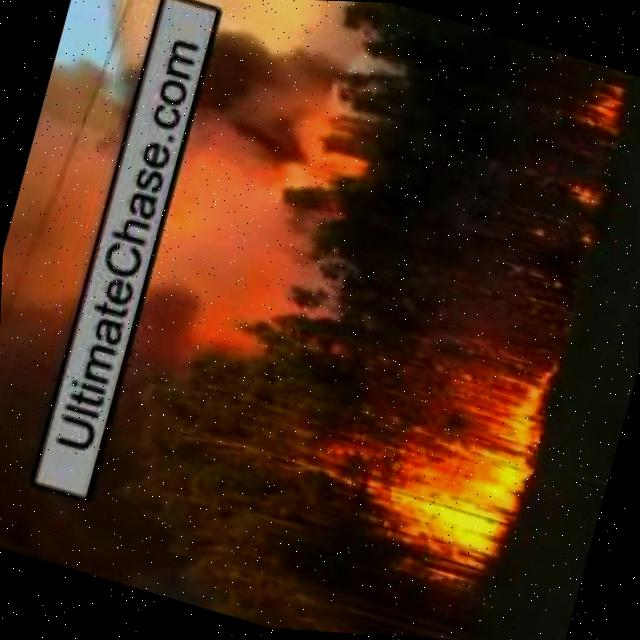fire: (367, 322, 555, 578), (569, 67, 636, 138), (551, 167, 606, 210)
